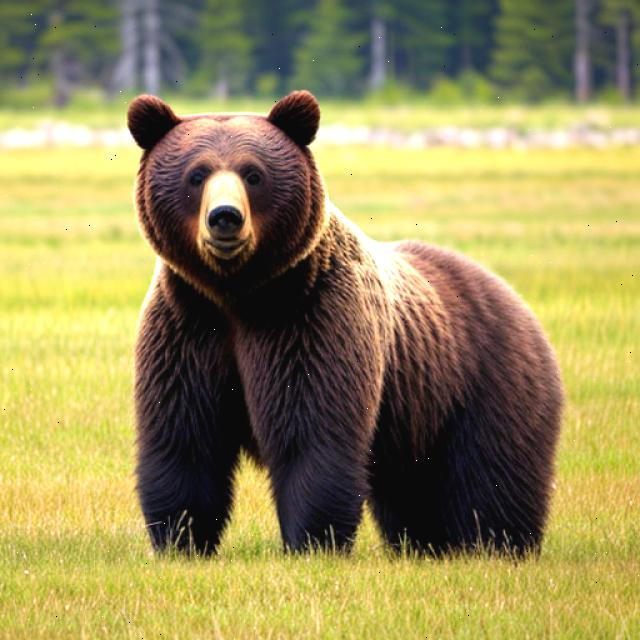bear: (119, 79, 581, 560)
